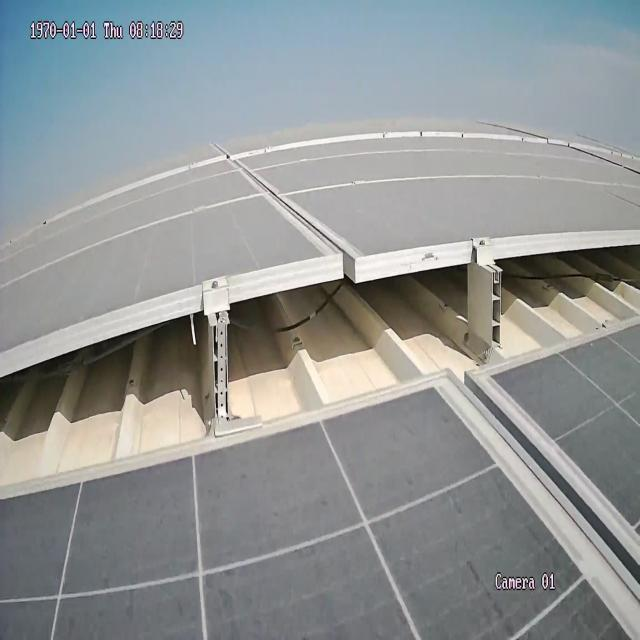interior panel: (445, 381, 640, 635), (227, 161, 360, 248)
outher panel: (2, 231, 639, 507)
